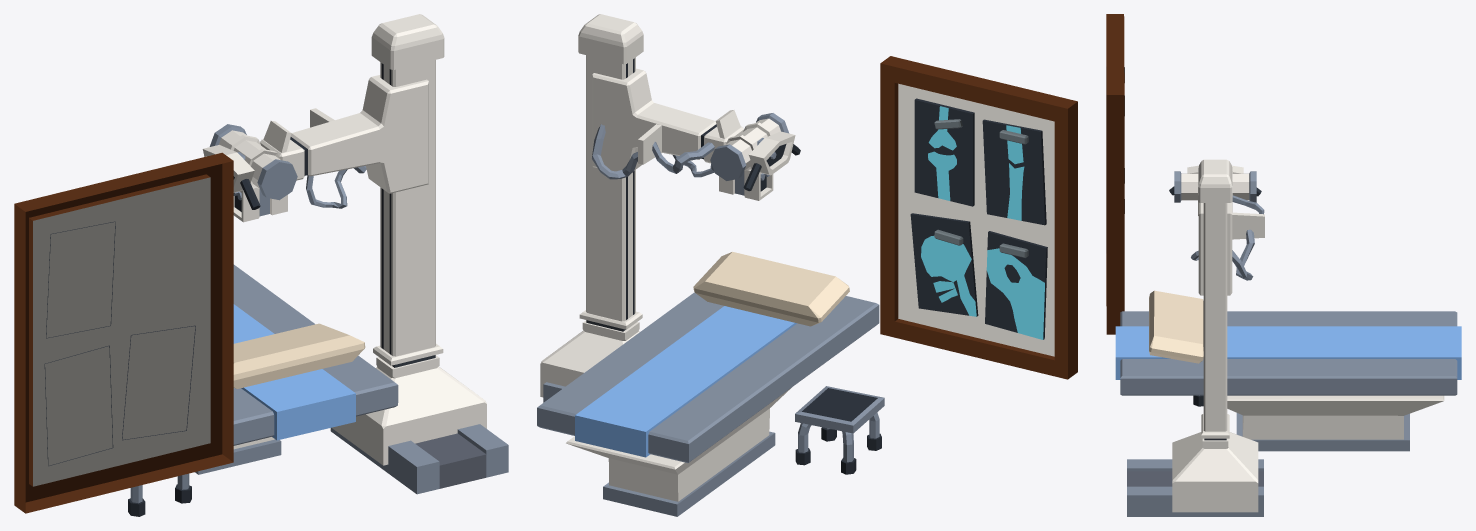
The model's file is g_o_XrayStation.fbx.
3 views of the same model, side by side, from view 1: azimuth 30°, elevation 25°; view 2: azimuth 150°, elevation 25°; view 3: azimuth 270°, elevation 25° (orthographic). The views are drawn at different scales.
Parts seen in each view (by area): view 1: board, xraymachine, bed, stool; view 2: board, bed, xraymachine, stool; view 3: bed, xraymachine, board.
Part boxes in pixels (x1=…): board: x1=14, y1=152, x2=233, y2=513; xraymachine: x1=202, y1=14, x2=508, y2=494; bed: x1=195, y1=264, x2=398, y2=474; stool: x1=128, y1=473, x2=191, y2=516; board: x1=880, y1=56, x2=1077, y2=379; bed: x1=537, y1=251, x2=879, y2=516; xraymachine: x1=540, y1=14, x2=800, y2=402; stool: x1=795, y1=386, x2=884, y2=474; bed: x1=1115, y1=290, x2=1461, y2=451; xraymachine: x1=1127, y1=159, x2=1264, y2=516; board: x1=1106, y1=14, x2=1124, y2=334.
Bounding box in the file's own units: 232 × 185 × 179.
